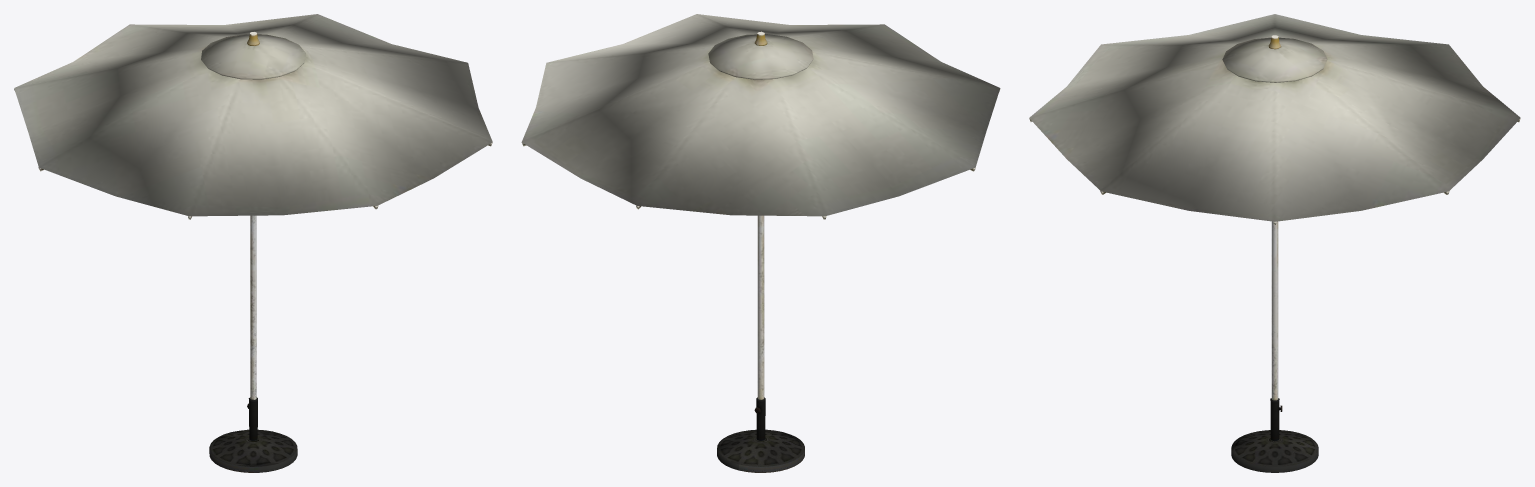
The model's file is white_umbrella.glb.
3 renders of one model, left to right at view 1: azimuth 30°, elevation 25°; view 2: azimuth 150°, elevation 25°; view 3: azimuth 270°, elevation 25°, orthographic.
Parts seen in each view (by area): view 1: white_umbrella; view 2: white_umbrella; view 3: white_umbrella.
Boxes of the visible parts, x1,y1,x2,y2 form: white_umbrella: (14,14,492,472); white_umbrella: (521,14,1000,472); white_umbrella: (1029,14,1520,472).
Bounding box in the file's own units: 2.77 × 2.6 × 2.77.
Materials: 1 (1 with a texture image).
